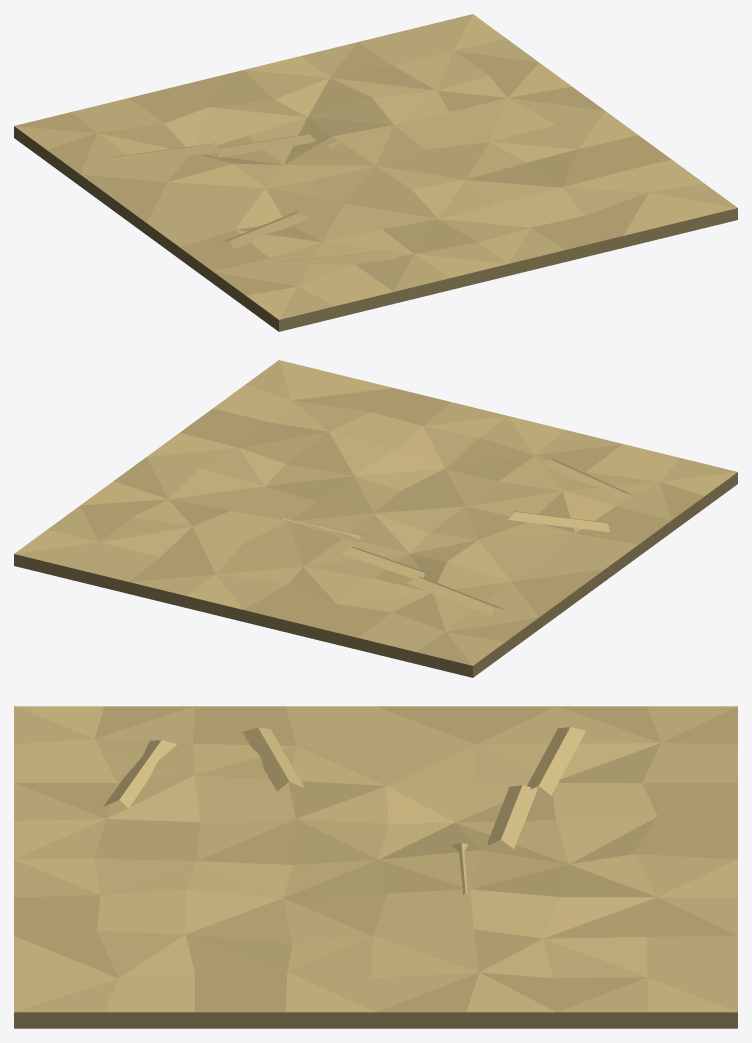
File: ground_sand_b.glb
The picture shows the model from 3 angles, top to bottom: view 1: azimuth 30°, elevation 25°; view 2: azimuth 150°, elevation 25°; view 3: azimuth 270°, elevation 25°; orthographic projection. The views are drawn at different scales.
Parts seen in each view (by area): view 1: ground_sand_b; view 2: ground_sand_b; view 3: ground_sand_b.
Boxes of the visible parts, box(x1,y1,x2,y2) form: ground_sand_b: box(14, 14, 737, 331); ground_sand_b: box(14, 360, 737, 677); ground_sand_b: box(14, 706, 737, 1028).
Size of the model in its own units: 4 by 0.135 by 4.
